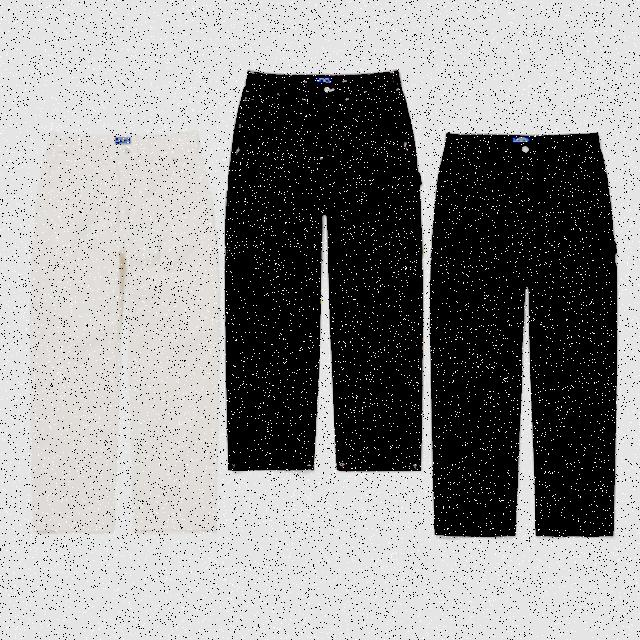dress: (218, 45, 437, 495), (428, 98, 621, 565)
